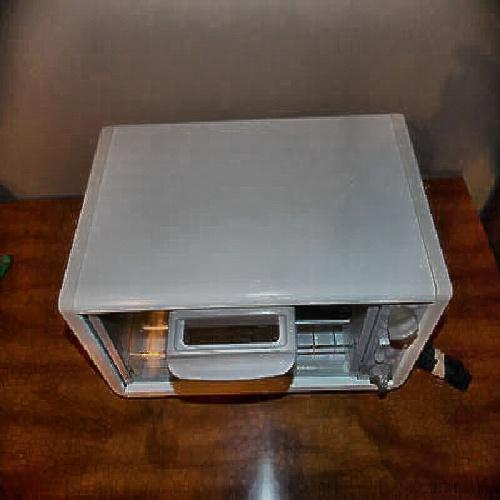toaster: (56, 116, 468, 410)
